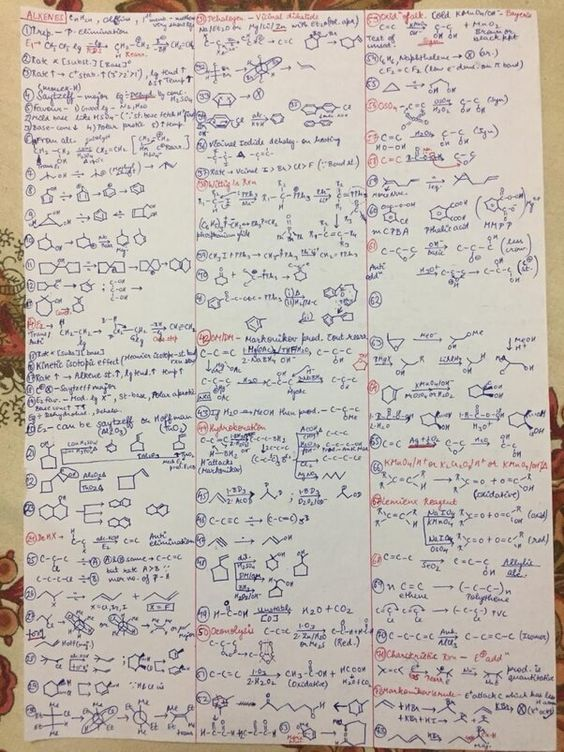page: (24, 13, 539, 743)
